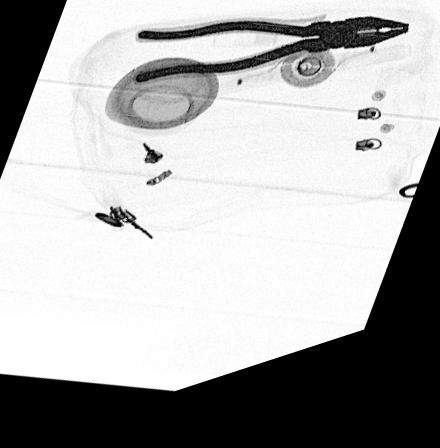Pliers: (129, 35, 413, 96)
